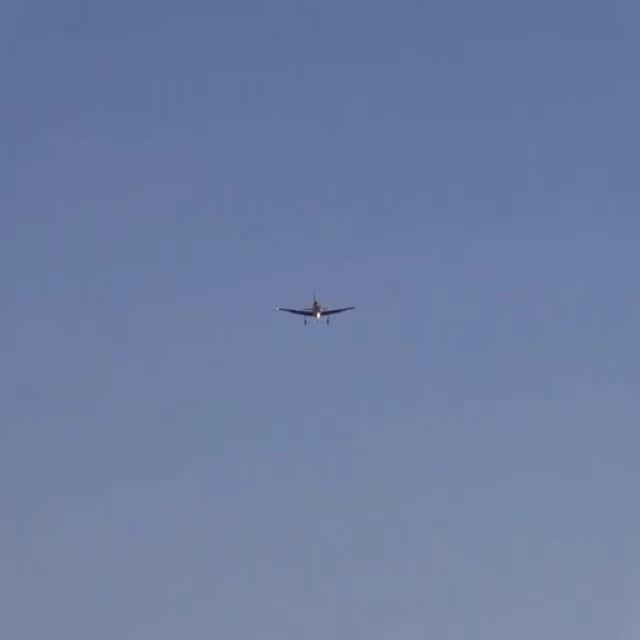AirPlane: (264, 280, 366, 341)
